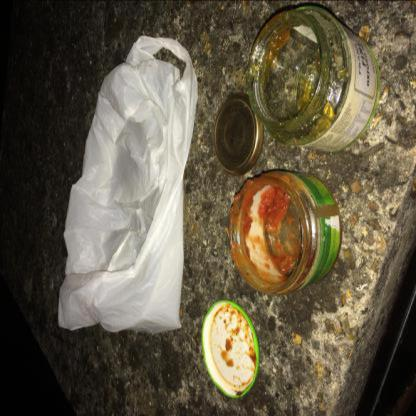Lid: (202, 300, 260, 398), (214, 92, 264, 176)
Other litter: (247, 6, 380, 152), (229, 170, 343, 295)
Plastic bag - wrapper: (58, 35, 198, 333)
